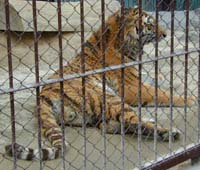Tigre: (52, 14, 164, 115)
